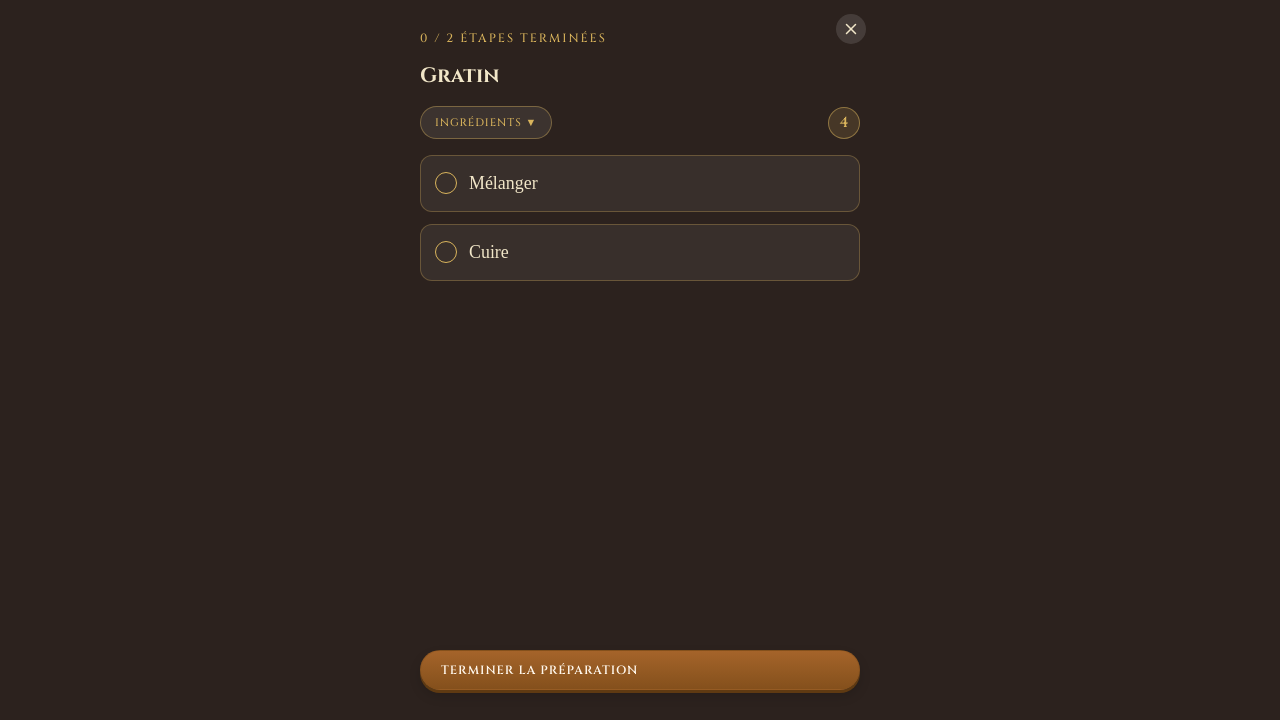
Test: Portions à l'unité — mode cuisine › sans unité : « parts », comme avant
Click the button "4" at {"x": 844, "y": 122}, box [829,108,859,138]
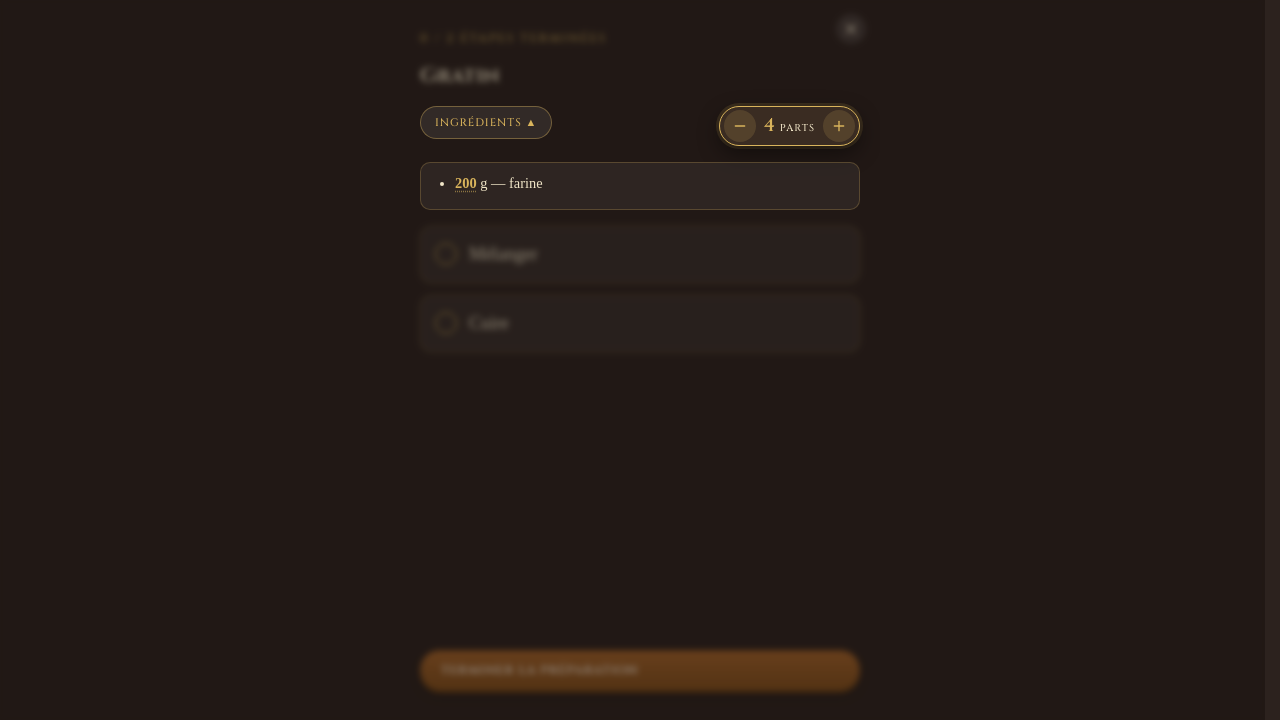
Expected: the text "parts" is shown, [780,121,815,135]
